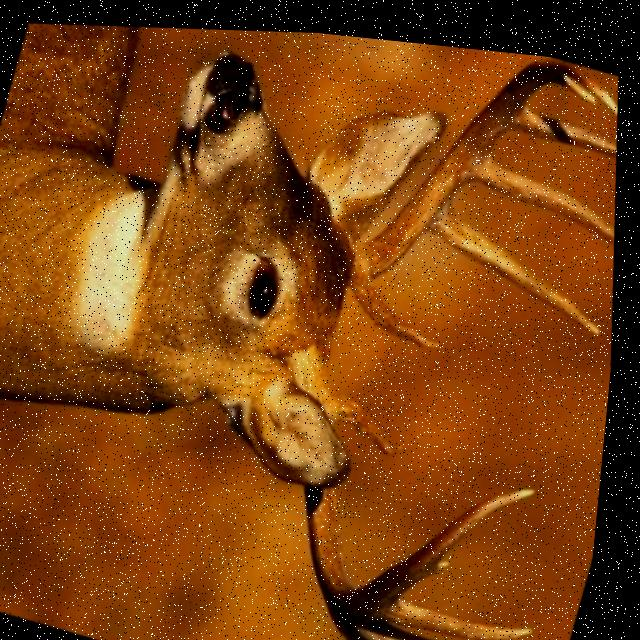L-F: (356, 47, 618, 279)
L-G1: (357, 267, 448, 339)
L-G2: (433, 199, 606, 323)
L-G3: (472, 144, 617, 231)
L-G4: (513, 95, 618, 145)
R-G1: (329, 382, 410, 445)
R-G3: (369, 613, 498, 640)
R-G4: (392, 589, 544, 629)
